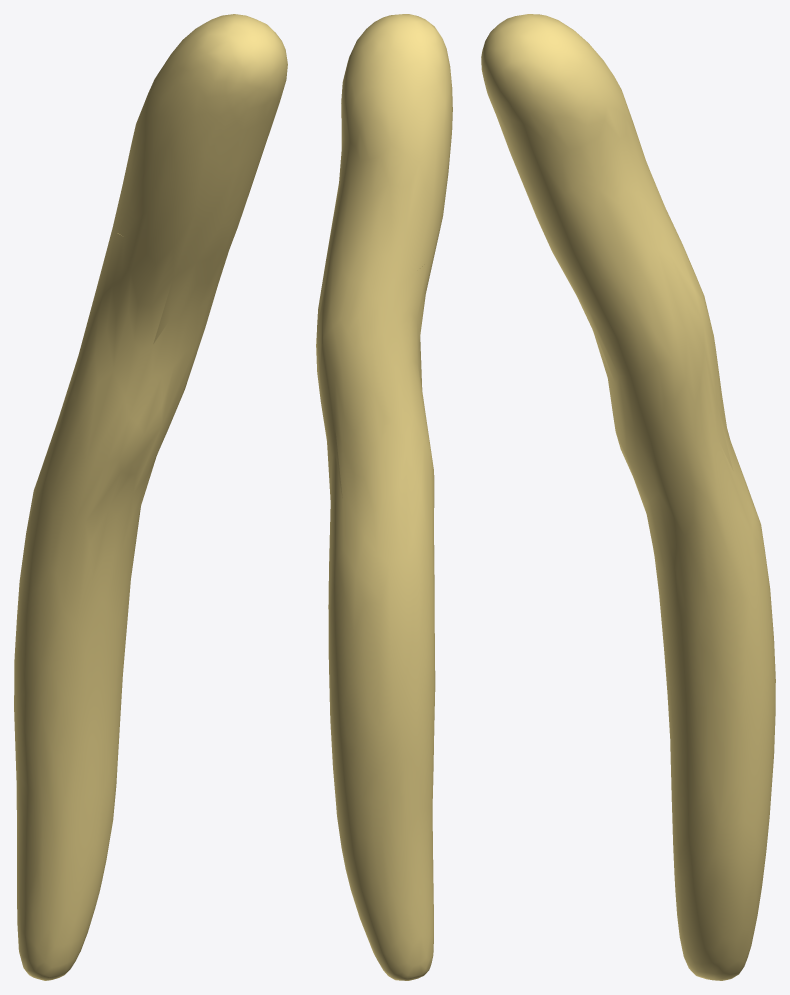
Rendered from fma83965-l_mm3523.glb.
3 renders of one model, left to right at view 1: azimuth 30°, elevation 25°; view 2: azimuth 150°, elevation 25°; view 3: azimuth 270°, elevation 25°, orthographic. The views are drawn at different scales.
Parts seen in each view (by area): view 1: FMA83965-L_MM3523; view 2: FMA83965-L_MM3523; view 3: FMA83965-L_MM3523.
Boxes of the visible parts, x1,y1,x2,y2 form: FMA83965-L_MM3523: (14,14,287,980); FMA83965-L_MM3523: (316,14,452,980); FMA83965-L_MM3523: (481,14,775,980).
Bounding box in the file's own units: 0.00271 × 0.015 × 0.00398.
